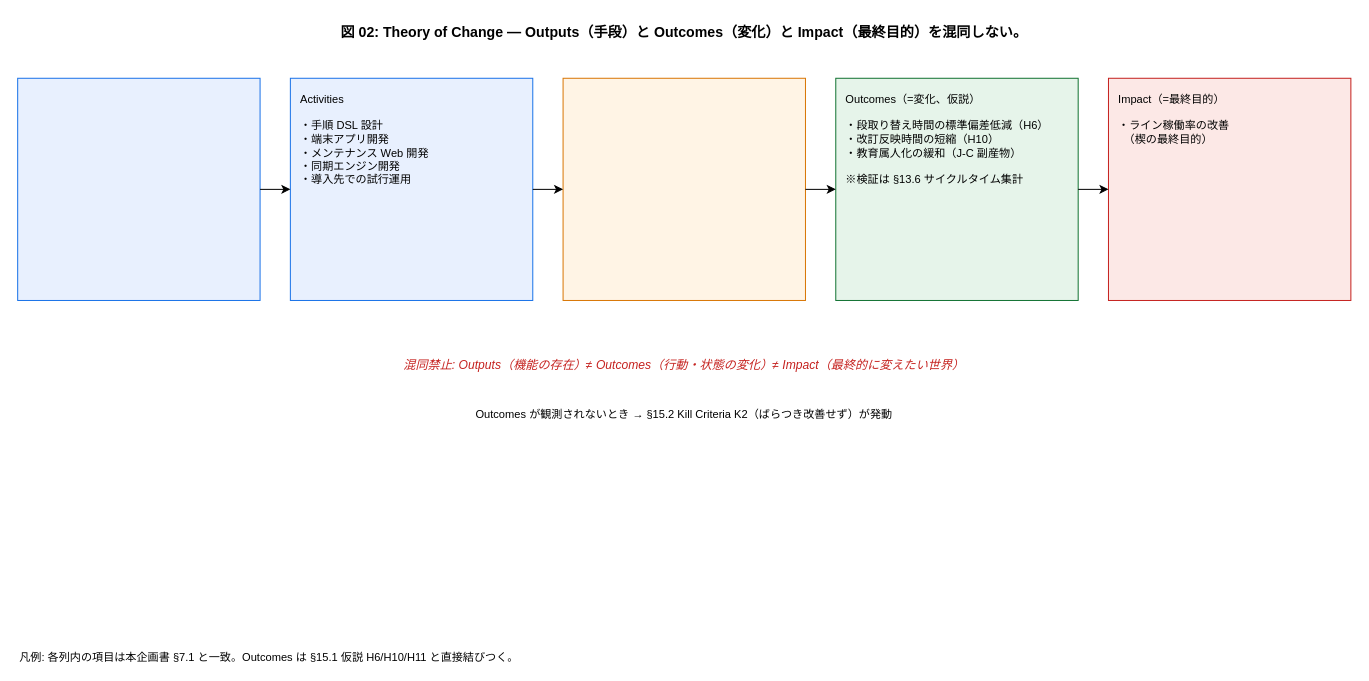
Some shapes in this 1369 by 681 pixel diagram are drawn without their labels. Here are the shapes that lost their labels. From the top down, the centre of each, then its label:
point 138,188: Inputs ・単一メンテナの開発時間 ・OSS コミュニティ公開 ・導入先の運用工数 ・標準作業3票・Excel 手順書
point 683,188: Outputs（=機能、楔） ・段取り替え時の単位作業ナビ ・差分同期 ・実績記録 ・PDF 印刷出力 ・Excel 取込
